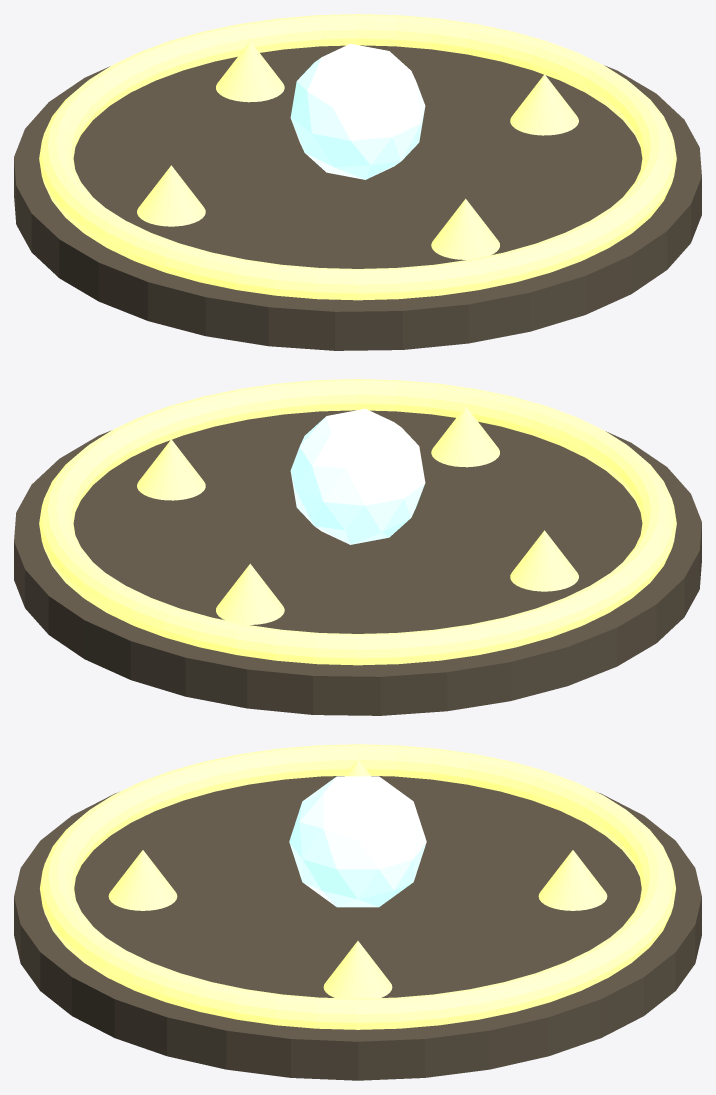
The model's file is teleport_pad.glb.
3 renders of one model, top to bottom at view 1: azimuth 30°, elevation 25°; view 2: azimuth 150°, elevation 25°; view 3: azimuth 270°, elevation 25°, orthographic.
Parts seen in each view (by area): view 1: TeleportPad_Base, GlowRing, Crystal, Cone, Cone.002, Cone.001, Cone.003; view 2: TeleportPad_Base, GlowRing, Crystal, Cone, Cone.002, Cone.003, Cone.001; view 3: TeleportPad_Base, GlowRing, Crystal, Cone.001, Cone.003, Cone.
Part boxes in pixels (x1,y1,x2,y2): TeleportPad_Base: [14, 45, 701, 350]; GlowRing: [39, 14, 676, 300]; Crystal: [290, 43, 425, 179]; Cone: [510, 74, 578, 135]; Cone.002: [137, 165, 205, 226]; Cone.001: [216, 41, 284, 102]; Cone.003: [431, 198, 499, 259]; TeleportPad_Base: [14, 410, 701, 715]; GlowRing: [39, 379, 676, 665]; Crystal: [290, 408, 425, 544]; Cone: [137, 439, 205, 500]; Cone.002: [510, 530, 578, 591]; Cone.003: [431, 406, 499, 467]; Cone.001: [216, 563, 284, 624]; TeleportPad_Base: [14, 776, 701, 1080]; GlowRing: [40, 744, 675, 1029]; Crystal: [289, 776, 426, 907]; Cone.001: [538, 850, 607, 910]; Cone.003: [108, 850, 177, 910]; Cone: [323, 941, 392, 998].
Size of the model in its own units: 8 by 2 by 8.
